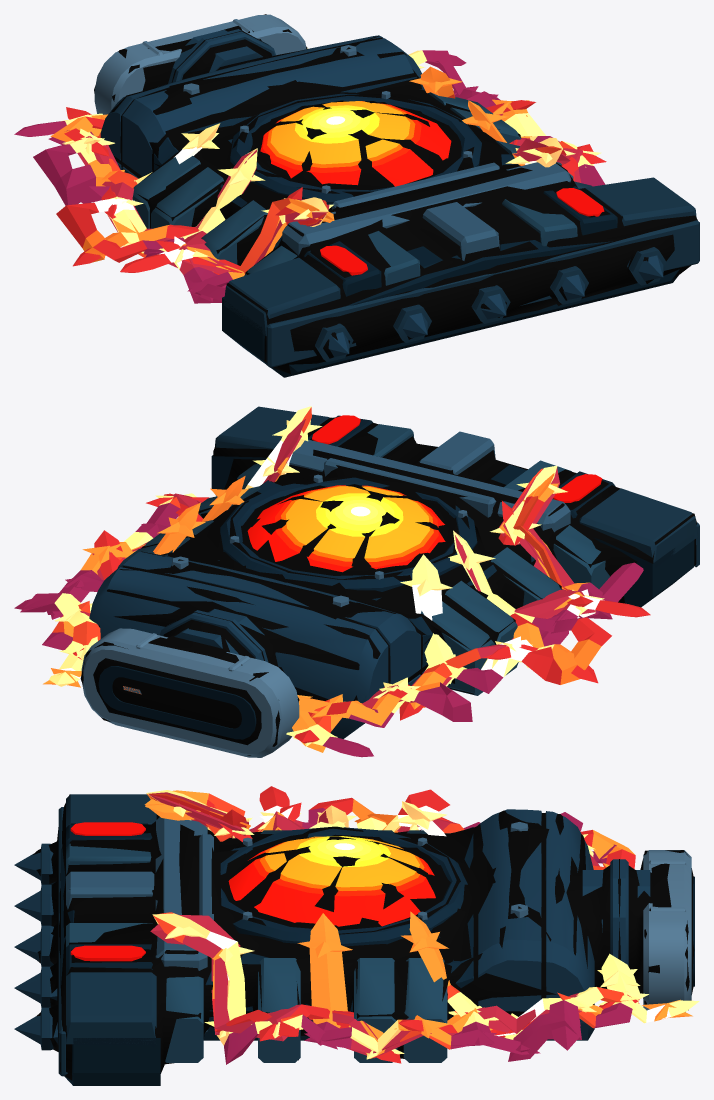
File: zica-supercharger.glb
The picture shows the model from 3 angles, top to bottom: view 1: azimuth 30°, elevation 25°; view 2: azimuth 150°, elevation 25°; view 3: azimuth 270°, elevation 25°; orthographic projection. The views are drawn at different scales.
Visible parts, largest first — view 1: zica-supercharger, zica-supercharger_outline, zica-supercharger-crackle-6, zica-supercharger-crackle-26, zica-supercharger-crackle-63, zica-supercharger-crackle-45, zica-supercharger-crackle-25, zica-supercharger-crackle-44, zica-supercharger-crackle-5, zica-supercharger-crackle-43, zica-supercharger-crackle-64, zica-supercharger-crackle-24; view 2: zica-supercharger, zica-supercharger_outline, zica-supercharger-crackle-6, zica-supercharger-crackle-26, zica-supercharger-crackle-45, zica-supercharger-crackle-63, zica-supercharger-crackle-25, zica-supercharger-crackle-44, zica-supercharger-crackle-43, zica-supercharger-crackle-5, zica-supercharger-crackle-64, zica-supercharger-crackle-24; view 3: zica-supercharger, zica-supercharger_outline, zica-supercharger-crackle-6, zica-supercharger-crackle-63, zica-supercharger-crackle-25, zica-supercharger-crackle-44, zica-supercharger-crackle-26, zica-supercharger-crackle-45, zica-supercharger-crackle-43, zica-supercharger-crackle-64, zica-supercharger-crackle-5, zica-supercharger-crackle-62 (+1 smaller).
Part boxes in pixels (<box>): zica-supercharger: <box>94,14,699,377</box>; zica-supercharger_outline: <box>94,14,697,374</box>; zica-supercharger-crackle-6: <box>33,66,574,267</box>; zica-supercharger-crackle-26: <box>56,137,601,262</box>; zica-supercharger-crackle-63: <box>14,50,541,303</box>; zica-supercharger-crackle-45: <box>73,148,299,300</box>; zica-supercharger-crackle-25: <box>70,103,605,274</box>; zica-supercharger-crackle-44: <box>77,48,582,294</box>; zica-supercharger-crackle-5: <box>91,100,593,240</box>; zica-supercharger-crackle-43: <box>50,116,606,221</box>; zica-supercharger-crackle-64: <box>61,50,426,301</box>; zica-supercharger-crackle-24: <box>104,186,327,273</box>; zica-supercharger: <box>81,406,699,757</box>; zica-supercharger_outline: <box>80,417,696,755</box>; zica-supercharger-crackle-6: <box>64,419,595,743</box>; zica-supercharger-crackle-26: <box>155,406,611,686</box>; zica-supercharger-crackle-45: <box>51,501,650,683</box>; zica-supercharger-crackle-63: <box>20,435,612,757</box>; zica-supercharger-crackle-25: <box>92,457,579,708</box>; zica-supercharger-crackle-44: <box>14,407,613,702</box>; zica-supercharger-crackle-43: <box>43,483,558,725</box>; zica-supercharger-crackle-5: <box>94,457,544,752</box>; zica-supercharger-crackle-64: <box>54,465,609,746</box>; zica-supercharger-crackle-24: <box>63,481,593,720</box>; zica-supercharger: <box>14,794,694,1085</box>; zica-supercharger_outline: <box>33,794,694,1080</box>; zica-supercharger-crackle-6: <box>150,792,616,1059</box>; zica-supercharger-crackle-63: <box>144,790,639,1061</box>; zica-supercharger-crackle-25: <box>148,794,599,1064</box>; zica-supercharger-crackle-44: <box>148,793,699,1058</box>; zica-supercharger-crackle-26: <box>152,789,449,1038</box>; zica-supercharger-crackle-45: <box>147,786,670,1023</box>; zica-supercharger-crackle-43: <box>145,799,692,1063</box>; zica-supercharger-crackle-64: <box>146,790,603,1036</box>; zica-supercharger-crackle-5: <box>211,817,492,1036</box>; zica-supercharger-crackle-62: <box>220,809,523,1058</box>.
Bounding box in the file's own units: 1.03 × 0.2914 × 1.18.
Materials: 47 (18 with a texture image).
